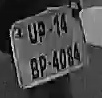0: (59, 48, 68, 70)
1: (51, 13, 61, 38)
4: (73, 42, 82, 65), (61, 11, 68, 37), (52, 51, 59, 74)
8: (67, 45, 74, 68)
B: (28, 57, 39, 81)
P: (35, 19, 50, 43), (39, 55, 46, 77)
U: (25, 22, 39, 46)
